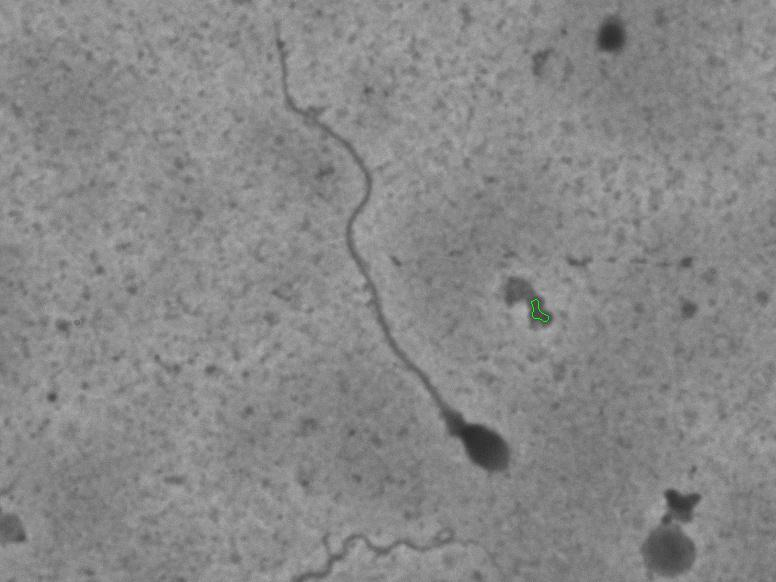Normal: (256, 14, 529, 487)
